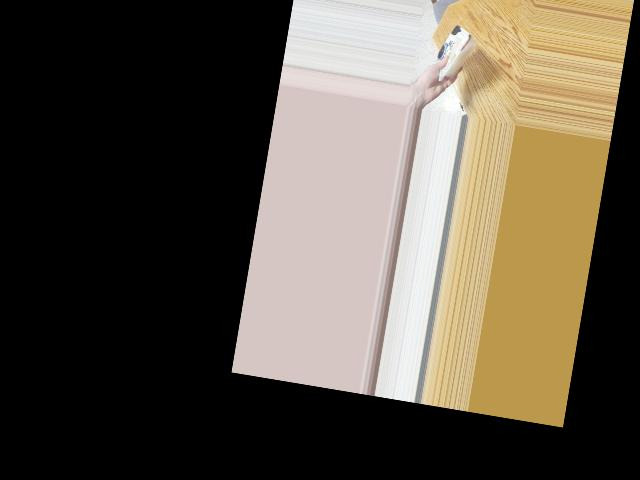cheese: (425, 24, 477, 77)
